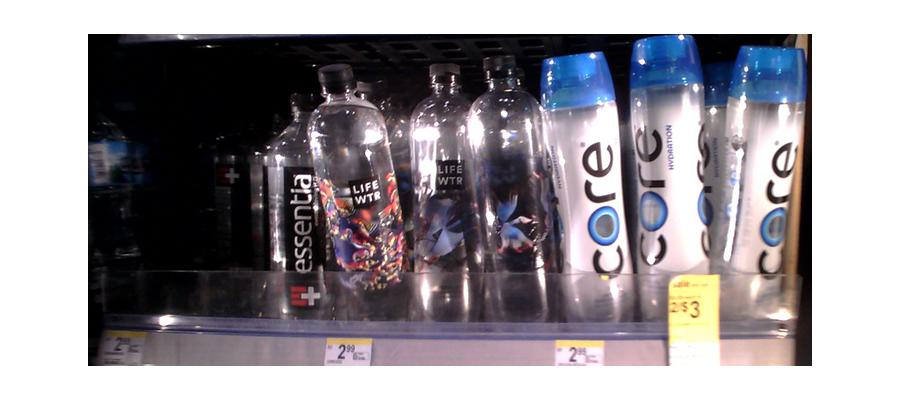bottle: (541, 46, 634, 331), (628, 33, 714, 325), (716, 47, 805, 326), (313, 68, 406, 328), (472, 51, 555, 337), (407, 61, 474, 323), (258, 89, 319, 320)
